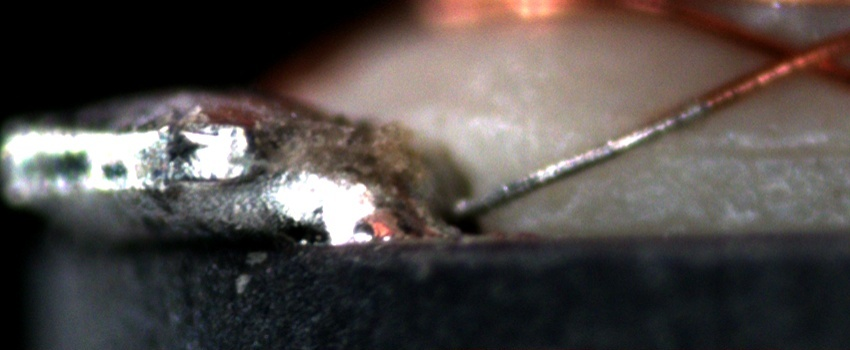CL: (749, 29, 832, 86)
DL: (659, 119, 850, 182)
TS: (450, 98, 705, 217)
